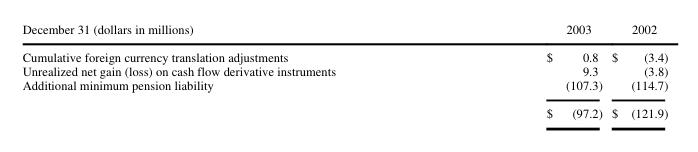table: (21, 19, 667, 120)
table column: (21, 19, 440, 120), (440, 19, 606, 120), (606, 19, 667, 120)
table column header: (21, 19, 667, 42)
table row: (21, 19, 667, 42), (21, 98, 667, 120), (21, 42, 667, 63), (21, 77, 667, 98), (21, 63, 667, 77)
